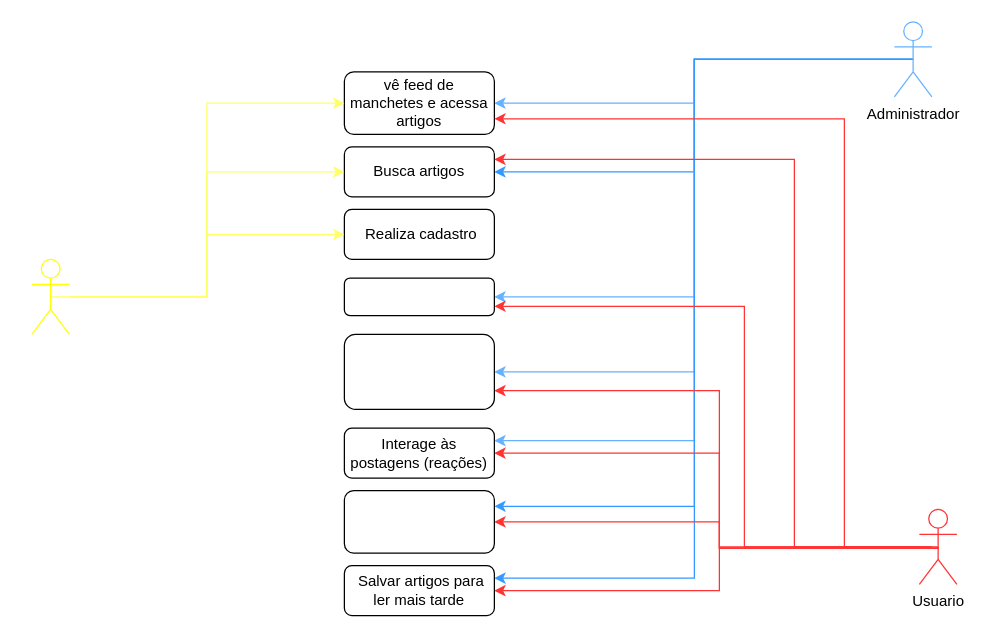
Image size: 985x638. Some labels were removed from this diagram. The centre of each missing label's shape, as x and y in pixels:
Posta, editar e apagar postagens: point (418, 521)
Realiza login: point (418, 296)
Tem acesso a funções relacionadas à saude: point (418, 371)
Visitante: point (50, 296)
